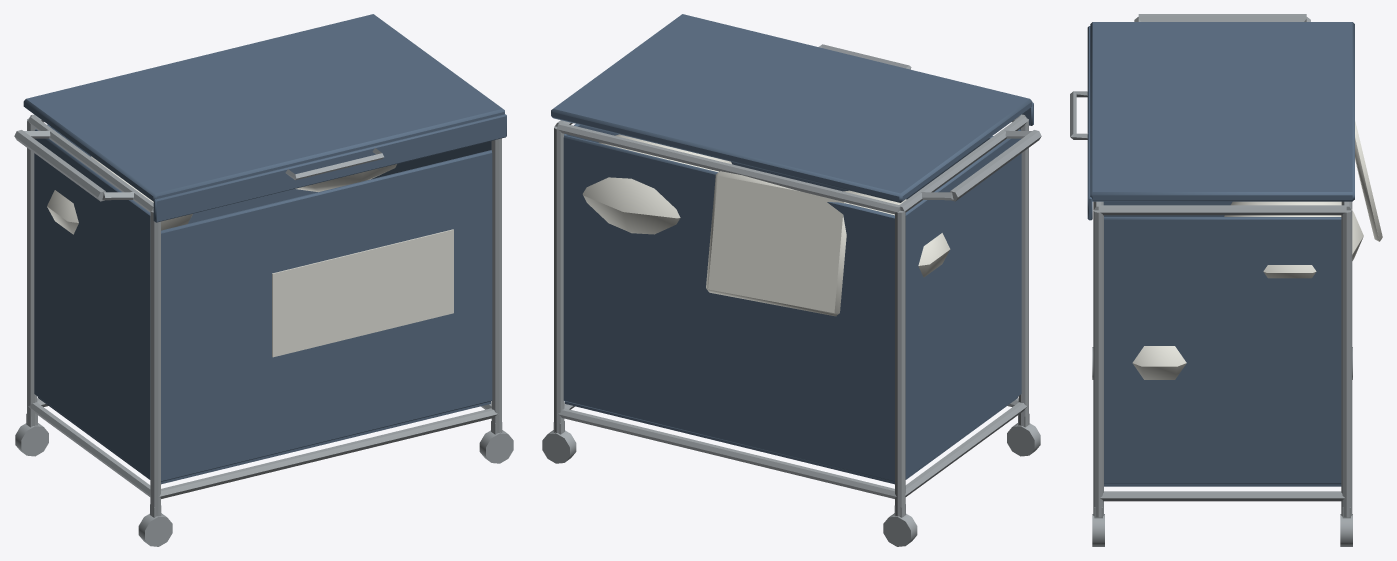
The model's file is laundry_cart.glb.
3 views of the same model, side by side, from view 1: azimuth 30°, elevation 25°; view 2: azimuth 150°, elevation 25°; view 3: azimuth 270°, elevation 25° (orthographic).
Visible parts, largest first — view 1: LaundryBody, Door; view 2: LaundryBody, Door; view 3: LaundryBody, Door.
Part boxes in pixels (x1,y1,x2,y2): LaundryBody: (14, 114, 513, 546); Door: (23, 14, 506, 222); LaundryBody: (542, 114, 1041, 546); Door: (551, 14, 1033, 202); LaundryBody: (1092, 14, 1382, 546); Door: (1070, 22, 1354, 220).
Size of the model in its own units: 1.08 by 0.9325 by 0.7439.
